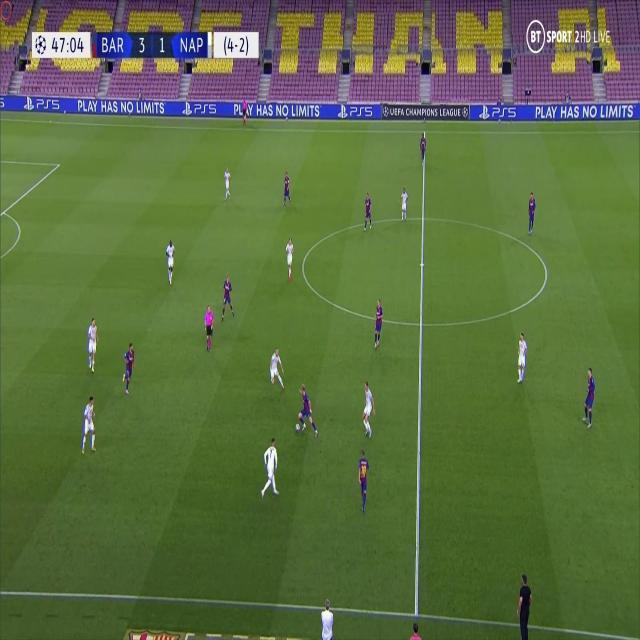ball: (295, 422, 300, 434)
player: (293, 382, 318, 438), (260, 437, 280, 500), (81, 394, 98, 457), (581, 363, 597, 429), (359, 379, 376, 440), (356, 446, 371, 511), (121, 339, 135, 396), (86, 314, 99, 373), (220, 272, 235, 323), (270, 346, 286, 392), (516, 328, 529, 384), (372, 295, 385, 350), (164, 236, 176, 285), (284, 234, 295, 280), (527, 189, 537, 234), (398, 184, 409, 223), (363, 189, 373, 231), (222, 164, 232, 201), (282, 169, 292, 206), (419, 125, 427, 165)
referee: (204, 303, 215, 352), (241, 94, 250, 128)
